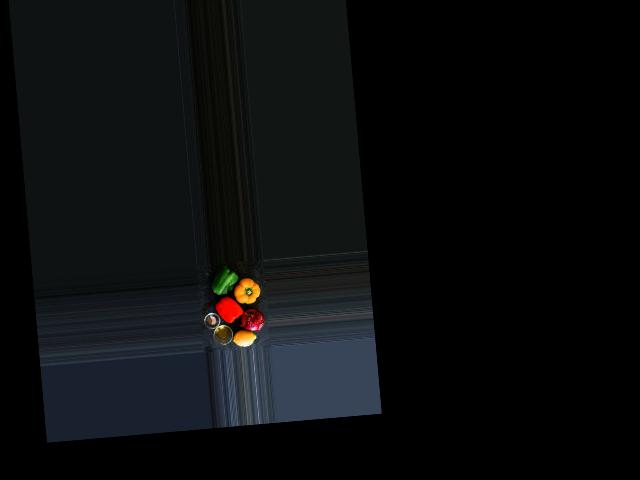bell_pepper: (213, 295, 244, 323)
